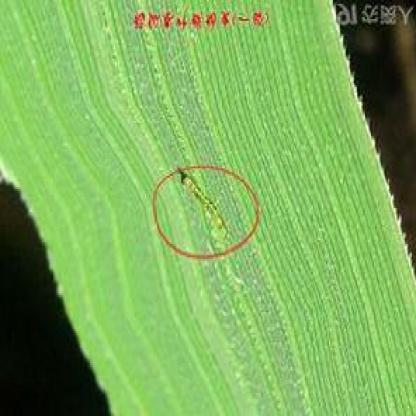leaf-folder: (167, 162, 238, 238)
